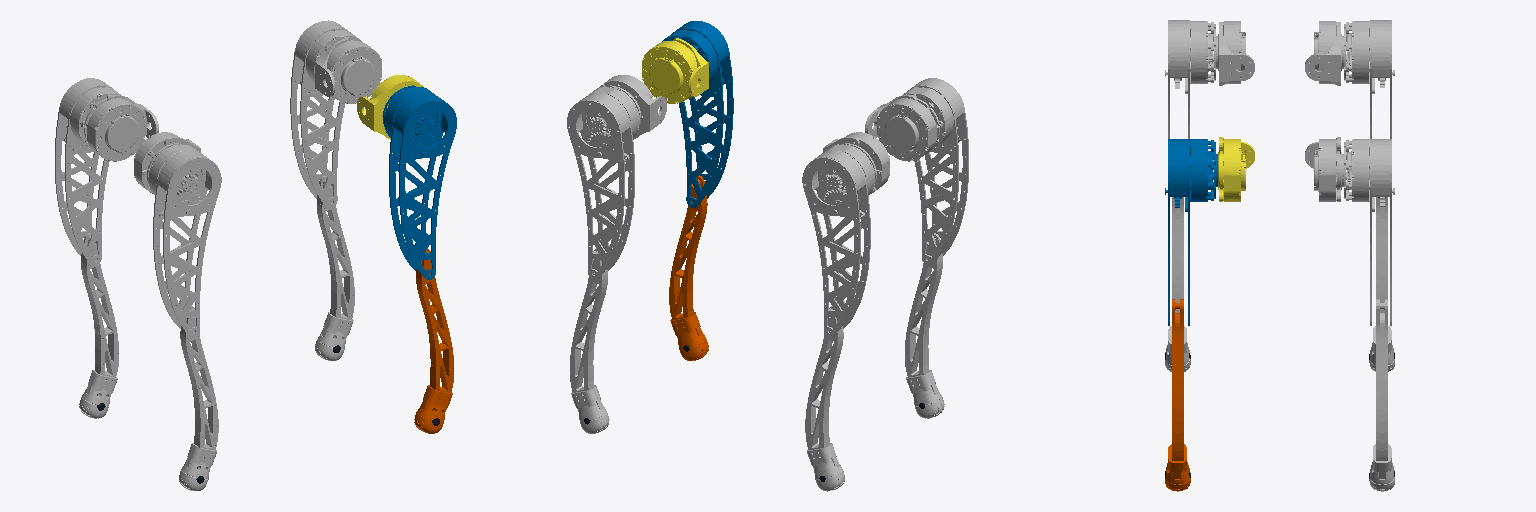
robot.urdf — black_description:
<?xml version="1.0" encoding="utf-8"?>
<robot name="black_description" xmlns:xacro="http://www.ros.org/wiki/xacro">
  <!-- 材料定义 -->
  <material name="black">
    <color rgba="0.0 0.0 0.0 1.0"/>
  </material>
  <material name="blue">
    <color rgba="0.0 0.0 0.8 1.0"/>
  </material>
  <material name="green">
    <color rgba="0.0 0.8 0.0 1.0"/>
  </material>
  <material name="grey">
    <color rgba="0.2 0.2 0.2 1.0"/>
  </material>
  <material name="silver">
    <color rgba="0.913725490196 0.913725490196 0.847058823529 1.0"/>
  </material>
  <material name="orange">
    <color rgba="0.12 0.15 0.2 1.0"/>
  </material>
  <material name="brown">
    <color rgba="0.870588235294 0.811764705882 0.764705882353 1.0"/>
  </material>
  <material name="red">
    <color rgba="0.8 0.0 0.0 1.0"/>
  </material>
  <material name="white">
    <color rgba="1.0 1.0 1.0 1.0"/>
  </material>

  <link name="base">
    <visual>
      <origin rpy="0 0 0" xyz="0 0 0"/>
      <geometry>
        <box size="0.001 0.001 0.001"/>
      </geometry>
    </visual>
  </link>

  <joint name="floating_base" type="fixed">
    <origin rpy="0 0 0" xyz="0 0 0"/>
    <parent link="base"/>
    <child link="trunk"/>
  </joint>

<link name="trunk">
  <inertial>
    <origin xyz="-0.003433 0.00011669 -0.070149" rpy="0 0 0" />
    <mass value="5.722" />
    <inertia ixx="0.0086165" ixy="-2.0558E-06" ixz="-5.7221E-06" iyy="0.0074945" iyz="-7.5196E-07" izz="0.012177" />
  </inertial>
  <visual>
    <origin xyz="0 0 0" rpy="0 0 0" />
    <geometry>
      <mesh filename="../meshes/trunk.STL" />
    </geometry>
    <material name="">
      <color rgba="0.75294 0.75294 0.75294 1" />
    </material>
  </visual>
  <collision>
    <origin xyz="0 0 0" rpy="0 0 0" />
    <geometry>
      <mesh filename="../meshes/trunk.STL" />
    </geometry>
  </collision>
</link>
<joint name="imu_joint" type="fixed">
  <parent link="trunk"/>
  <child link="imu_link"/>
  <origin rpy="0 0 0" xyz="0 0 0"/>
</joint>
<link name="imu_link">
  <inertial>
    <mass value="0.001"/>
    <origin rpy="0 0 0" xyz="0 0 0"/>
    <inertia ixx="0.0001" ixy="0" ixz="0" iyy="0.0001" iyz="0" izz="0.0001"/>
  </inertial>
  <visual>
    <origin rpy="0 0 0" xyz="0 0 0"/>
    <geometry>
      <box size="0.001 0.001 0.001"/>
    </geometry>
    <material name="red"/>
  </visual>
</link>



<!-- ===================== 左前腿（FR）===================== -->
<joint name="FR_hip_joint" type="revolute">
  <origin xyz="0.1566 -0.059999 -0.06425" rpy="0 0 0"/>
  <parent link="trunk"/>
  <child link="FR_hip"/>
  <axis xyz="1 0 0"/>
  <limit lower="-10" upper="10" effort="20" velocity="25"/>
</joint>
<link name="FR_hip">
  <inertial>
    <origin xyz="0.05138 -0.014784 -5.6642E-05" rpy="0 0 0"/>
    <mass value="0.60559"/>
    <inertia ixx="0.00037423" ixy="8.7952E-06" ixz="-1.0024E-06"
             iyy="0.00064932" iyz="-6.9802E-08" izz="0.00034154"/>
  </inertial>
  <visual>
    <origin xyz="0 0 0" rpy="0 0 0"/>
    <geometry>
      <mesh filename="../meshes/FR_hip.STL"/>
    </geometry>
    <material name=""/>
  </visual>
  <collision>
    <origin xyz="0 0 0" rpy="0 0 0"/>
    <geometry>
      <mesh filename="../meshes/FR_hip.STL"/>
    </geometry>
  </collision>
</link>
<joint name="FR_thigh_joint" type="revolute">
  <origin xyz="0.056 -0.0336 0" rpy="0 0 -1.5708"/>
  <parent link="FR_hip"/>
  <child link="FR_thigh"/>
  <axis xyz="1 0 0"/>
  <limit lower="-10" upper="10" effort="20" velocity="25"/>
</joint>
<link name="FR_thigh">
  <inertial>
    <origin xyz="0.039669 -0.0023188 -0.015479" rpy="0 0 0"/>
    <mass value="0.84232"/>
    <inertia ixx="0.0016834" ixy="-8.869E-08" ixz="-1.6926E-07" iyy="0.0012347" iyz="-3.1416E-05" izz="0.00049591"/>
  </inertial>
  <visual>
    <origin xyz="0 0 0" rpy="0 0 0"/>
    <geometry>
      <mesh filename="../meshes/FR_thigh.STL"/>
    </geometry>
    <material name=""/>
  </visual>
  <collision>
    <origin xyz="0 0 0" rpy="0 0 0"/>
    <geometry>
      <mesh filename="../meshes/FR_thigh.STL"/>
    </geometry>
  </collision>
</link>

<joint name="FR_calf_joint" type="revolute">
  <origin xyz="0.0618 0 -0.25" rpy="0 0 0"/>
  <parent link="FR_thigh"/>
  <child link="FR_calf"/>
  <axis xyz="1 0 0"/>
  <limit lower="-10" upper="10" effort="20" velocity="25"/>
</joint>
<link name="FR_calf">
  <inertial>
    <origin xyz="-9.4664E-05 0.015542 -0.15138" rpy="0 0 0"/>
    <mass value="0.25559"/>
    <inertia ixx="0.00092468" ixy="1.5005E-08" ixz="3.6688E-08"
             iyy="0.00088757" iyz="0.00012741" izz="5.3072E-05"/>
  </inertial>
  <visual>
    <origin xyz="0 0 0" rpy="0 0 0"/>
    <geometry>
      <mesh filename="../meshes/FR_calf.STL"/>
    </geometry>
    <material name=""/>
  </visual>
  <collision>
    <origin xyz="0 0 0" rpy="0 0 0"/>
    <geometry>
      <mesh filename="../meshes/FR_calf.STL"/>
    </geometry>
  </collision>
</link>

<joint name="FR_foot_fixed" type="fixed" dont_collapse="true">
  <origin xyz="0 0.0078843 -0.25749" rpy="0 0 0"/>
  <parent link="FR_calf"/>
  <child link="FR_foot"/>
</joint>
<link name="FR_foot">
  <visual>
    <origin xyz="0 0 0" rpy="0 0 0"/>
    <geometry>
      <sphere radius="0.02"/>
    </geometry>
    <material name="orange"/>
  </visual>
  <collision>
    <origin xyz="0 0 0" rpy="0 0 0"/>
    <geometry>
      <sphere radius="0.03"/>
    </geometry>
  </collision>
  <inertial>
    <mass value="0.1"/>
    <inertia ixx="1.6e-05" ixy="0" ixz="0" iyy="1.6e-05" iyz="0" izz="1.6e-05"/>
  </inertial>
</link>

<!-- ===================== 右后腿（RR）===================== -->
<joint name="RR_hip_joint" type="revolute">
  <origin xyz="-0.1566 -0.059999 -0.06425" rpy="0 0 -3.1416"/>
  <parent link="trunk"/>
  <child link="RR_hip"/>
  <axis xyz="1 0 0"/>
  <limit lower="-10" upper="10" effort="20" velocity="25"/>
</joint>
<link name="RR_hip">
  <inertial>
    <origin xyz="0.05138 0.014784 5.6642E-05" rpy="0 0 0"/>
    <mass value="0.60559"/>
    <inertia ixx="0.00037423" ixy="-8.7952E-06" ixz="1.0024E-06" iyy="0.00064932" iyz="-6.9802E-08" izz="0.00034154"/>
  </inertial>
  <visual>
    <origin xyz="0 0 0" rpy="0 0 0"/>
    <geometry>
      <mesh filename="../meshes/RR_hip.STL"/>
    </geometry>
    <material name="">
      <color rgba="0.75294 0.75294 0.75294 1"/>
    </material>
  </visual>
  <collision>
    <origin xyz="0 0 0" rpy="0 0 0"/>
    <geometry>
      <mesh filename="../meshes/RR_hip.STL"/>
    </geometry>
  </collision>
</link>

<joint name="RR_thigh_joint" type="revolute">
  <origin xyz="0.056 0.0336 0" rpy="0 0 1.5708"/>
  <parent link="RR_hip"/>
  <child link="RR_thigh"/>
  <axis xyz="1 0 0"/>
  <limit lower="-10" upper="10" effort="20" velocity="25"/>
</joint>
<link name="RR_thigh">
  <inertial>
    <origin xyz="0.039669 -0.0023188 -0.015479" rpy="0 0 0"/>
    <mass value="0.84232"/>
    <inertia ixx="0.0016834" ixy="-8.869E-08" ixz="-1.6926E-07" iyy="0.0012347" iyz="-3.1416E-05" izz="0.00049591"/>
  </inertial>
  <visual>
    <origin xyz="0 0 0" rpy="0 0 0"/>
    <geometry>
      <mesh filename="../meshes/RR_thigh.STL"/>
    </geometry>
    <material name="">
      <color rgba="0.75294 0.75294 0.75294 1"/>
    </material>
  </visual>
  <collision>
    <origin xyz="0 0 0" rpy="0 0 0"/>
    <geometry>
      <mesh filename="../meshes/RR_thigh.STL"/>
    </geometry>
  </collision>
</link>

<joint name="RR_calf_joint" type="revolute">
  <origin xyz="0.0618 0 -0.25" rpy="0 0 0"/>
  <parent link="RR_thigh"/>
  <child link="RR_calf"/>
  <axis xyz="1 0 0"/>
  <limit lower="-10" upper="10" effort="20" velocity="25"/>
</joint>
<link name="RR_calf">
  <inertial>
    <origin xyz="-9.4664E-05 0.015542 -0.15138" rpy="0 0 0"/>
    <mass value="0.25559"/>
    <inertia ixx="0.00092468" ixy="1.5005E-08" ixz="3.6689E-08" iyy="0.00088757" iyz="0.00012741" izz="5.3072E-05"/>
  </inertial>
  <visual>
    <origin xyz="0 0 0" rpy="0 0 0"/>
    <geometry>
      <mesh filename="../meshes/RR_calf.STL"/>
    </geometry>
    <material name="">
      <color rgba="0.75294 0.75294 0.75294 1"/>
    </material>
  </visual>
  <collision>
    <origin xyz="0 0 0" rpy="0 0 0"/>
    <geometry>
      <mesh filename="../meshes/RR_calf.STL"/>
    </geometry>
  </collision>
</link>

<joint name="RR_foot_fixed" type="fixed" dont_collapse="true">
  <origin xyz="0 0.0078843 -0.25749" rpy="0 0 0"/>
  <parent link="RR_calf"/>
  <child link="RR_foot"/>
</joint>
<link name="RR_foot">
  <visual>
    <origin xyz="0 0 0" rpy="0 0 0"/>
    <geometry>
      <sphere radius="0.02"/>
    </geometry>
    <material name="orange"/>
  </visual>
  <collision>
    <origin xyz="0 0 0" rpy="0 0 0"/>
    <geometry>
      <sphere radius="0.03"/>
    </geometry>
  </collision>
  <inertial>
    <mass value="0.1"/>
    <inertia ixx="1.6e-05" ixy="0" ixz="0" iyy="1.6e-05" iyz="0" izz="1.6e-05"/>
  </inertial>
</link>

<!-- ===================== 左后腿（RL）===================== -->
<joint name="RL_hip_joint" type="revolute">
  <origin xyz="-0.1566 0.060001 -0.06425" rpy="0 0 -3.1416"/>
  <parent link="trunk"/>
  <child link="RL_hip"/>
  <axis xyz="1 0 0"/>
  <limit lower="-10" upper="10" effort="20" velocity="25"/>
</joint>
<link name="RL_hip">
  <inertial>
    <origin xyz="0.05138 -0.014784 -5.6642E-05" rpy="0 0 0"/>
    <mass value="0.60559"/>
    <inertia ixx="0.00037423" ixy="8.7952E-06" ixz="-1.0024E-06" iyy="0.00064932" iyz="-6.9802E-08" izz="0.00034154"/>
  </inertial>
  <visual>
    <origin xyz="0 0 0" rpy="0 0 0"/>
    <geometry>
      <mesh filename="../meshes/RL_hip.STL"/>
    </geometry>
    <material name="">
      <color rgba="0.75294 0.75294 0.75294 1"/>
    </material>
  </visual>
  <collision>
    <origin xyz="0 0 0" rpy="0 0 0"/>
    <geometry>
      <mesh filename="../meshes/RL_hip.STL"/>
    </geometry>
  </collision>
</link>

<joint name="RL_thigh_joint" type="revolute">
  <origin xyz="0.056 -0.0336 0" rpy="0 0 -1.5708"/>
  <parent link="RL_hip"/>
  <child link="RL_thigh"/>
  <axis xyz="1 0 0"/>
  <limit lower="-10" upper="10" effort="20" velocity="25"/>
</joint>
<link name="RL_thigh">
  <inertial>
    <origin xyz="0.039584 0.0023922 -0.015369" rpy="0 0 0"/>
    <mass value="0.83909"/>
    <inertia ixx="0.0016834" ixy="-4.9269E-08" ixz="-1.9083E-07" iyy="0.0012338" iyz="3.3489E-05" izz="0.00049668"/>
  </inertial>
  <visual>
    <origin xyz="0 0 0" rpy="0 0 0"/>
    <geometry>
      <mesh filename="../meshes/RL_thigh.STL"/>
    </geometry>
    <material name="">
      <color rgba="0.75294 0.75294 0.75294 1"/>
    </material>
  </visual>
  <collision>
    <origin xyz="0 0 0" rpy="0 0 0"/>
    <geometry>
      <mesh filename="../meshes/RL_thigh.STL"/>
    </geometry>
  </collision>
</link>

<joint name="RL_calf_joint" type="revolute">
  <origin xyz="0.0618 0 -0.25" rpy="0 0 0"/>
  <parent link="RL_thigh"/>
  <child link="RL_calf"/>
  <axis xyz="1 0 0"/>
  <limit lower="-10" upper="10" effort="20" velocity="25"/>
</joint>
<link name="RL_calf">
  <inertial>
    <origin xyz="9.4664E-05 -0.015542 -0.15138" rpy="0 0 0"/>
    <mass value="0.25559"/>
    <inertia ixx="0.00092468" ixy="1.5005E-08" ixz="-3.6686E-08" iyy="0.00088757" iyz="-0.00012741" izz="5.3072E-05"/>
  </inertial>
  <visual>
    <origin xyz="0 0 0" rpy="0 0 0"/>
    <geometry>
      <mesh filename="../meshes/RL_calf.STL"/>
    </geometry>
    <material name="">
      <color rgba="0.75294 0.75294 0.75294 1"/>
    </material>
  </visual>
  <collision>
    <origin xyz="0 0 0" rpy="0 0 0"/>
    <geometry>
      <mesh filename="../meshes/RL_calf.STL"/>
    </geometry>
  </collision>
</link>

<joint name="RL_foot_fixed" type="fixed" dont_collapse="true">
  <origin xyz="0 -0.0078843 -0.25749" rpy="0 0 0"/>
  <parent link="RL_calf"/>
  <child link="RL_foot"/>
</joint>
<link name="RL_foot">
  <visual>
    <origin xyz="0 0 0" rpy="0 0 0"/>
    <geometry>
      <sphere radius="0.02"/>
    </geometry>
    <material name="orange"/>
  </visual>
  <collision>
    <origin xyz="0 0 0" rpy="0 0 0"/>
    <geometry>
      <sphere radius="0.03"/>
    </geometry>
  </collision>
  <inertial>
    <mass value="0.1"/>
    <inertia ixx="1.6e-05" ixy="0" ixz="0" iyy="1.6e-05" iyz="0" izz="1.6e-05"/>
  </inertial>
</link>

<!-- ===================== 左前腿（FL）===================== -->
<joint name="FL_hip_joint" type="revolute">
  <origin xyz="0.1566 0.060001 -0.06425" rpy="0 0 0"/>
  <parent link="trunk"/>
  <child link="FL_hip"/>
  <axis xyz="1 0 0"/>
  <limit lower="-10" upper="10" effort="20" velocity="25"/>
</joint>
<link name="FL_hip">
  <inertial>
    <origin xyz="0.05138 0.014784 5.6642E-05" rpy="0 0 0"/>
    <mass value="0.60559"/>
    <inertia ixx="0.00037423" ixy="-8.7952E-06" ixz="1.0024E-06" iyy="0.00064932" iyz="-6.9802E-08" izz="0.00034154"/>
  </inertial>
  <visual>
    <origin xyz="0 0 0" rpy="0 0 0"/>
    <geometry>
      <mesh filename="../meshes/FL_hip.STL"/>
    </geometry>
    <material name="">
      <color rgba="0.75294 0.75294 0.75294 1"/>
    </material>
  </visual>
  <collision>
    <origin xyz="0 0 0" rpy="0 0 0"/>
    <geometry>
      <mesh filename="../meshes/FL_hip.STL"/>
    </geometry>
  </collision>
</link>
<joint name="FL_thigh_joint" type="revolute">
  <origin xyz="0.056 0.0336 0" rpy="0 0 1.5708"/>
  <parent link="FL_hip"/>
  <child link="FL_thigh"/>
  <axis xyz="1 0 0"/>
  <limit lower="-10" upper="10" effort="20" velocity="25"/>
</joint>
<link name="FL_thigh">
  <inertial>
    <origin xyz="0.039584 0.0023922 -0.015369" rpy="0 0 0"/>
    <mass value="0.83909"/>
    <inertia ixx="0.0016834" ixy="-4.9269E-08" ixz="-1.9083E-07" iyy="0.0012338" iyz="3.3489E-05" izz="0.00049668"/>
  </inertial>
  <visual>
    <origin xyz="0 0 0" rpy="0 0 0"/>
    <geometry>
      <mesh filename="../meshes/FL_thigh.STL"/>
    </geometry>
    <material name="">
      <color rgba="0.75294 0.75294 0.75294 1"/>
    </material>
  </visual>
  <collision>
    <origin xyz="0 0 0" rpy="0 0 0"/>
    <geometry>
      <mesh filename="../meshes/FL_thigh.STL"/>
    </geometry>
  </collision>
</link>
<joint name="FL_calf_joint" type="revolute">
  <origin xyz="0.0618 0 -0.25" rpy="0 0 0"/>
  <parent link="FL_thigh"/>
  <child link="FL_calf"/>
  <axis xyz="1 0 0"/>
  <limit lower="-10" upper="10" effort="20" velocity="25"/>
</joint>
<link name="FL_calf">
  <inertial>
    <origin xyz="9.4664E-05 -0.015542 -0.15138" rpy="0 0 0"/>
    <mass value="0.25559"/>
    <inertia ixx="0.00092468" ixy="1.501E-08" ixz="-3.6669E-08" iyy="0.00088757" iyz="-0.00012741" izz="5.3072E-05"/>
  </inertial>
  <visual>
    <origin xyz="0 0 0" rpy="0 0 0"/>
    <geometry>
      <mesh filename="../meshes/FL_calf.STL"/>
    </geometry>
    <material name="">
      <color rgba="0.75294 0.75294 0.75294 1"/>
    </material>
  </visual>
  <collision>
    <origin xyz="0 0 0" rpy="0 0 0"/>
    <geometry>
      <mesh filename="../meshes/FL_calf.STL"/>
    </geometry>
  </collision>
</link>

<joint name="FL_foot_fixed" type="fixed" dont_collapse="true">
  <origin xyz="0 -0.0078843 -0.25749" rpy="0 0 0"/>
  <parent link="FL_calf"/>
  <child link="FL_foot"/>
</joint>
<link name="FL_foot">
  <visual>
    <origin xyz="0 0 0" rpy="0 0 0"/>
    <geometry>
      <sphere radius="0.02"/>
    </geometry>
    <material name="orange"/>
  </visual>
  <collision>
    <origin xyz="0 0 0" rpy="0 0 0"/>
    <geometry>
      <sphere radius="0.03"/>
    </geometry>
  </collision>
  <inertial>
    <mass value="0.1"/>
    <inertia ixx="1.6e-05" ixy="0" ixz="0" iyy="1.6e-05" iyz="0" izz="1.6e-05"/>
  </inertial>
</link>

</robot>

--- Facts derived from the render (not from the file) ---
The picture shows the robot from 3 angles, left to right: view 1: azimuth 30°, elevation 25°; view 2: azimuth 150°, elevation 25°; view 3: azimuth 270°, elevation 25°; orthographic projection.
Model black_description with 19 links and 18 joints (12 revolute, 6 fixed), rooted at base, posed every joint at zero.
Visible links, largest first — view 1: RR_thigh, FR_thigh, RL_thigh, FL_thigh, RL_calf, RR_calf, FL_calf, FR_calf, FL_hip, RL_hip, FR_hip, RR_hip; view 2: RL_thigh, FL_thigh, RR_thigh, FR_thigh, RR_calf, FL_calf, RL_calf, FR_calf, FR_hip, RR_hip, FL_hip, RL_hip; view 3: FR_thigh, FL_thigh, RR_thigh, RL_thigh, FL_calf, FR_calf, FL_hip, FR_hip, RL_hip, RR_hip, RL_calf, RR_calf.
Boxes of the visible links, x1,y1,x2,y2 form: RR_thigh: (147,143,221,337); FR_thigh: (383,85,456,279); RL_thigh: (55,78,120,265); FL_thigh: (290,20,361,207); RL_calf: (79,233,118,418); RR_calf: (179,306,218,490); FL_calf: (315,176,354,360); FR_calf: (414,248,453,433); FL_hip: (315,38,381,103); RL_hip: (87,95,158,161); FR_hip: (357,75,424,139); RR_hip: (134,132,200,193); RL_thigh: (802,143,876,337); FL_thigh: (567,85,641,279); RR_thigh: (903,78,968,265); FR_thigh: (662,21,733,207); RR_calf: (905,233,944,418); FL_calf: (570,248,609,433); RL_calf: (805,306,844,491); FR_calf: (669,175,708,360); FR_hip: (642,38,708,103); RR_hip: (865,95,936,161); FL_hip: (599,75,666,139); RL_hip: (823,132,889,193); FR_thigh: (1165,139,1217,325); FL_thigh: (1342,139,1394,325); RR_thigh: (1165,20,1217,138); RL_thigh: (1342,20,1394,138); FL_calf: (1369,299,1394,491); FR_calf: (1165,299,1190,491); FL_hip: (1305,137,1341,201); FR_hip: (1218,137,1254,201); RL_hip: (1305,21,1341,85); RR_hip: (1218,21,1254,85); RL_calf: (1369,197,1394,371); RR_calf: (1165,197,1190,371).
Size in the robot's own frame: 0.5293 by 0.3509 by 0.5951 metres.
12 mesh visuals loaded from 13 distinct referenced files (12 binary STL); not drawn: 1 (reference not matched to a file when rendering).